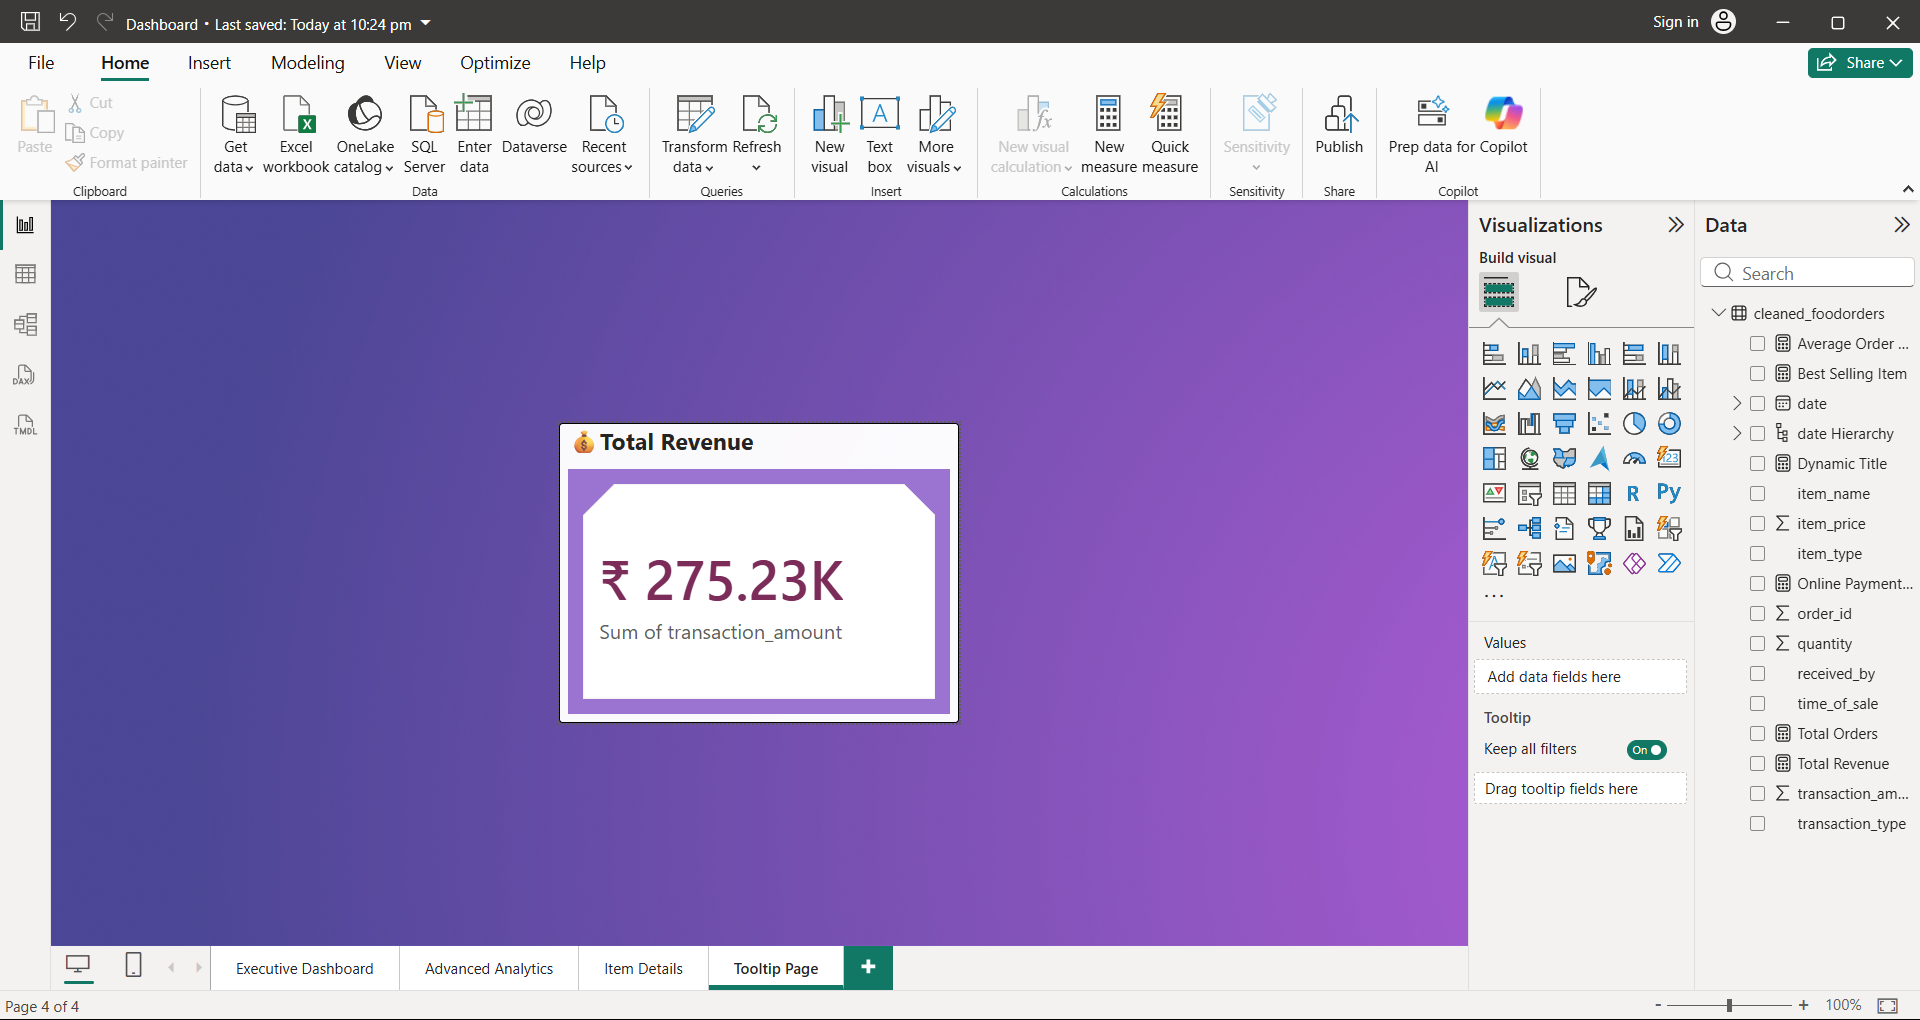

The dashboard page shown, as its layout file describes it:
{"tool":"powerbi","page":{"name":"Tooltip Page","canvas":[320,240],"ordinal":3},"visuals":[{"type":"cardVisual","title":"💰Total Revenue","fields":{"Data":["Sum(cleaned_foodorders.transaction_amount)"]},"box":[37,34,263,165],"z":0}]}

Visuals, with their boxes on the page's 320x240 design canvas (x1, y1, x2, y2). These are canvas units, not pixel positions in the 1920x1020 screenshot, which may show the page scaled, cropped or inside an application window:
"💰Total Revenue" cardVisual: left=37, top=34, right=300, bottom=199
